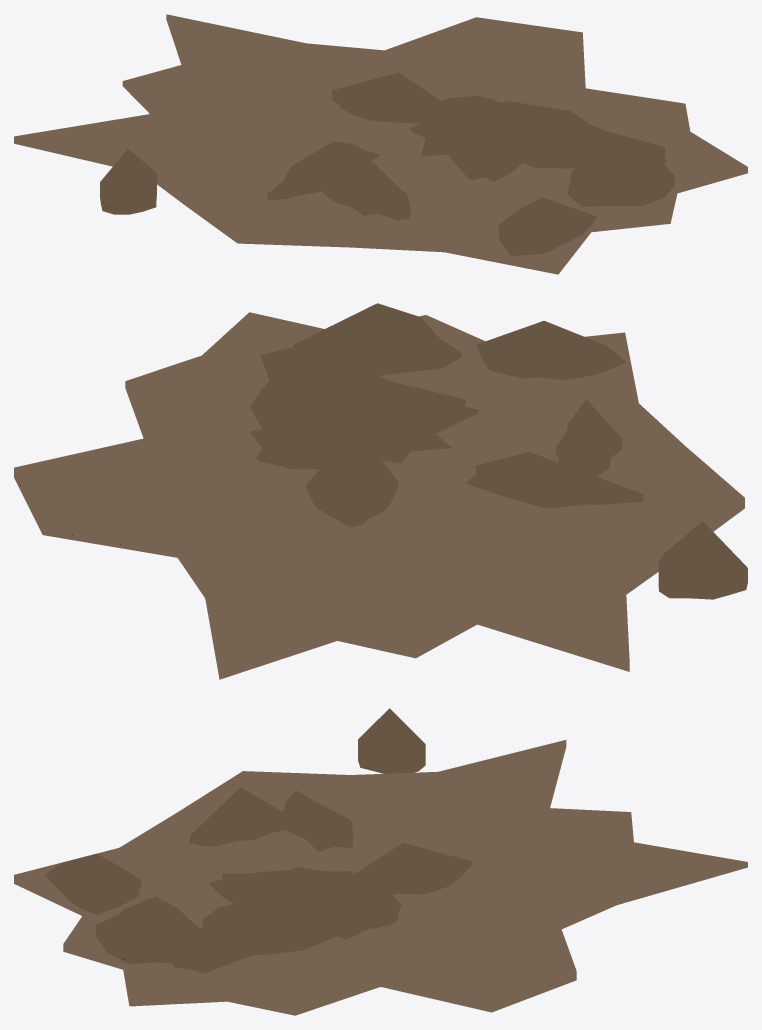
The model's file is dirt_2.glb.
The picture shows the model from 3 angles, top to bottom: view 1: azimuth 30°, elevation 25°; view 2: azimuth 150°, elevation 25°; view 3: azimuth 270°, elevation 25°; orthographic projection. The views are drawn at different scales.
Visible parts, largest first — view 1: dirt_2; view 2: dirt_2; view 3: dirt_2.
Part boxes in pixels (<box>): dirt_2: <box>14,14,747,274</box>; dirt_2: <box>14,303,747,679</box>; dirt_2: <box>14,708,747,1015</box>.
Bounding box in the file's own units: 0.7203 × 0.0709 × 0.8278.
